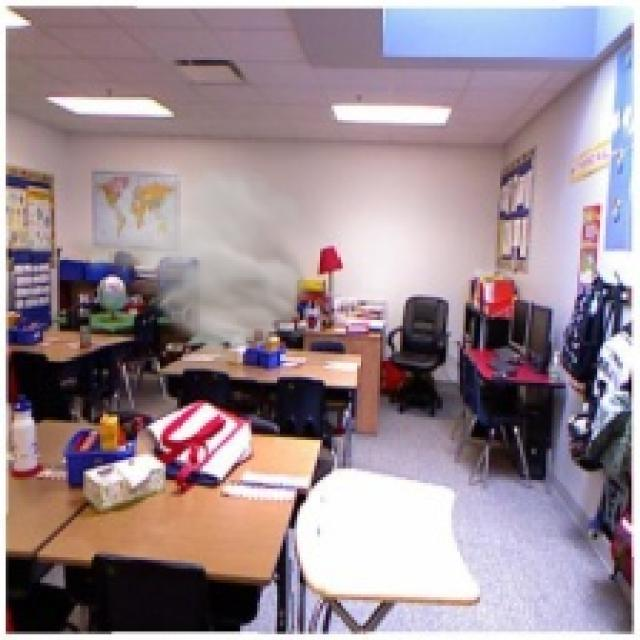Smoke: (57, 157, 337, 366)
